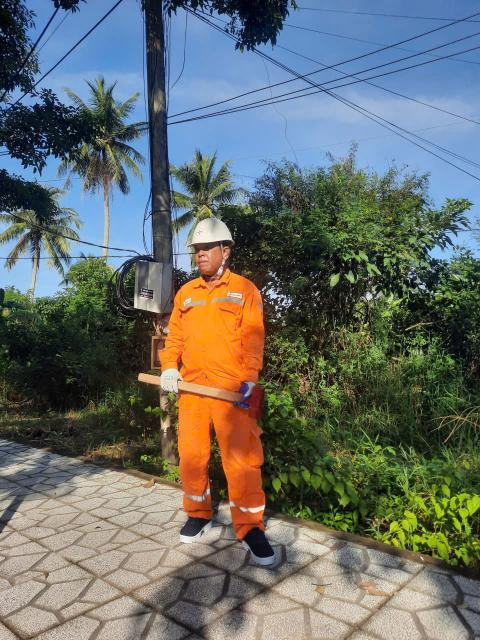gloves: (156, 368, 192, 402), (234, 378, 260, 411)
helmet: (186, 206, 240, 265)
shoes: (231, 524, 284, 572), (172, 500, 213, 549)
